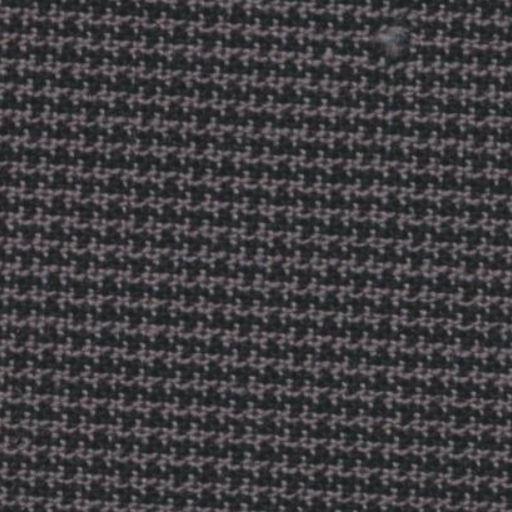PoDong: (348, 10, 440, 82)
